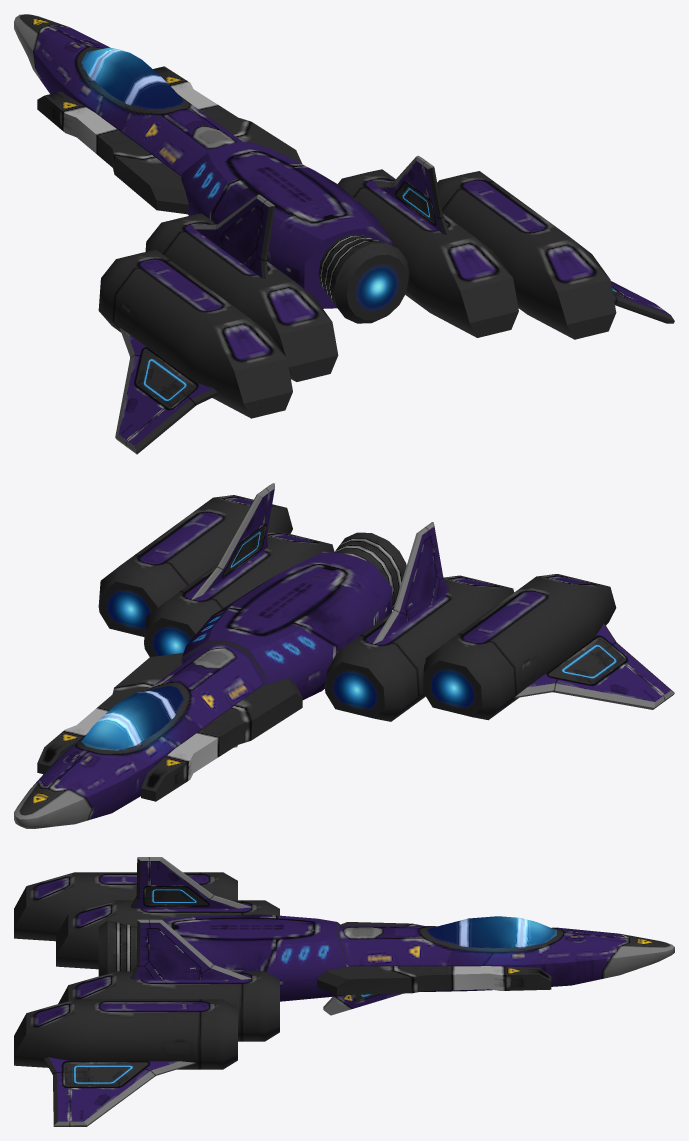
Rendered from scout15.gltf.
The picture shows the model from 3 angles, top to bottom: view 1: azimuth 30°, elevation 25°; view 2: azimuth 150°, elevation 25°; view 3: azimuth 270°, elevation 25°; orthographic projection. The views are drawn at different scales.
Parts seen in each view (by area): view 1: scout15; view 2: scout15; view 3: scout15.
Boxes of the visible parts, x1=… form: scout15: x1=14, y1=14, x2=674, y2=454; scout15: x1=14, y1=483, x2=674, y2=828; scout15: x1=14, y1=857, x2=674, y2=1126.
Bounding box in the file's own units: 9.27 × 2.72 × 12.22.
